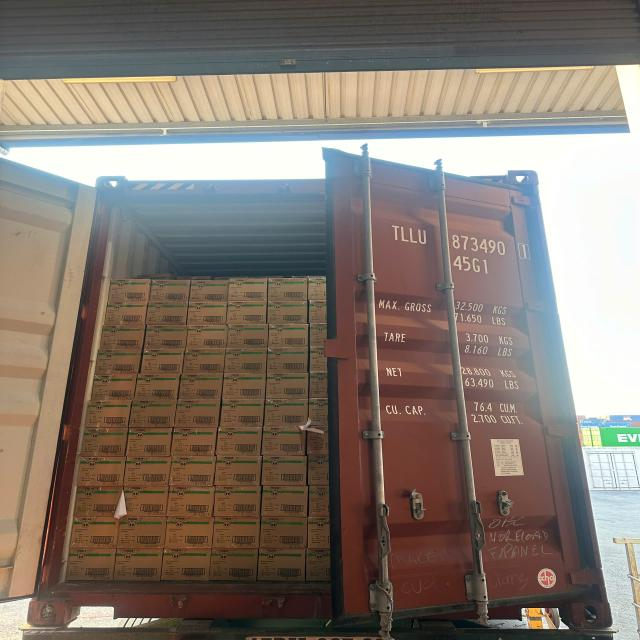Carton: (64, 546, 117, 582), (207, 546, 260, 582), (161, 546, 212, 582), (112, 547, 163, 582), (73, 484, 124, 518), (166, 484, 217, 518), (258, 515, 308, 549), (77, 454, 127, 488), (258, 548, 306, 582), (214, 454, 263, 487), (121, 484, 170, 517), (211, 516, 261, 548), (168, 455, 218, 487), (68, 516, 118, 548), (261, 485, 309, 518), (213, 484, 262, 516), (117, 516, 166, 548), (166, 516, 212, 549), (123, 456, 173, 486), (261, 455, 308, 486), (170, 426, 217, 457), (84, 400, 134, 429), (215, 426, 263, 456), (80, 428, 129, 457), (128, 400, 178, 428), (173, 399, 221, 428), (125, 427, 173, 456), (264, 398, 310, 428), (262, 426, 307, 456), (133, 374, 179, 402), (219, 399, 265, 427), (94, 350, 142, 376), (177, 373, 223, 400), (222, 347, 268, 374), (222, 373, 268, 400), (90, 374, 137, 400), (181, 348, 226, 375), (142, 325, 190, 350), (138, 348, 184, 374), (98, 326, 147, 350), (266, 372, 309, 399), (103, 301, 149, 326), (226, 323, 269, 349), (268, 323, 309, 350), (107, 277, 151, 302), (266, 347, 308, 373), (144, 301, 189, 325), (184, 325, 229, 349), (149, 278, 191, 303), (186, 301, 228, 326), (226, 300, 267, 325), (188, 279, 230, 303), (268, 300, 308, 325), (228, 278, 268, 302), (267, 278, 307, 302), (305, 548, 332, 582), (307, 515, 331, 549), (306, 426, 330, 456), (307, 455, 329, 486), (309, 485, 330, 517), (308, 398, 329, 426), (306, 277, 328, 301), (308, 299, 329, 324), (308, 346, 328, 372), (309, 371, 328, 398), (309, 322, 328, 348)
